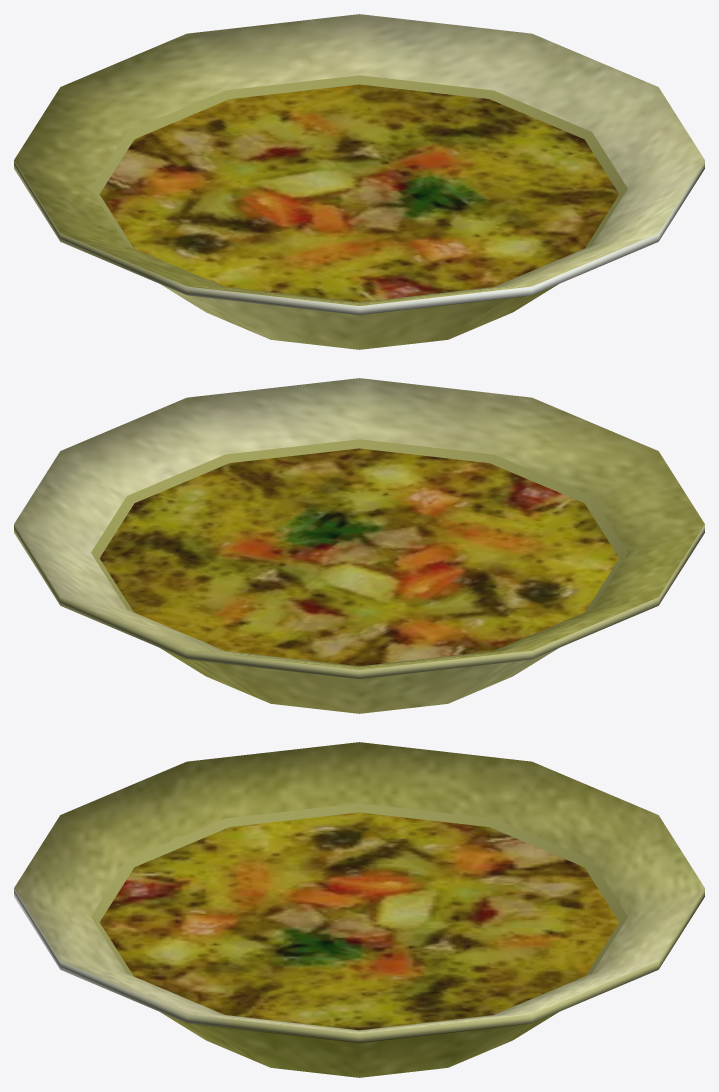
The model's file is KM_ITFO_SOUP01.glb.
3 renders of one model, top to bottom at view 1: azimuth 30°, elevation 25°; view 2: azimuth 150°, elevation 25°; view 3: azimuth 270°, elevation 25°, orthographic.
Parts seen in each view (by area): view 1: Mesh; view 2: Mesh; view 3: Mesh.
Boxes of the visible parts, x1,y1,x2,y2 form: Mesh: (14, 14, 704, 349); Mesh: (14, 378, 704, 713); Mesh: (14, 742, 704, 1077).
Bounding box in the file's own units: 0.342 × 0.0627 × 0.342.
Materials: 3 (2 with a texture image).
